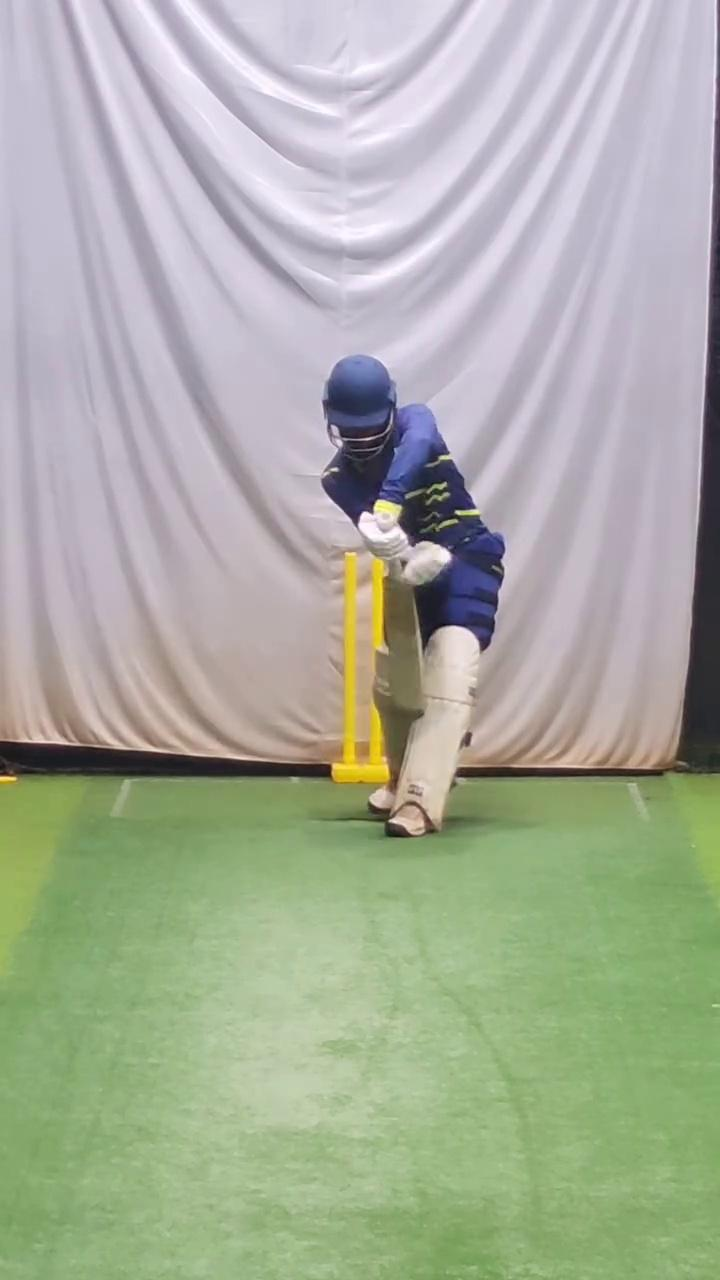bat: (378, 575, 428, 723)
